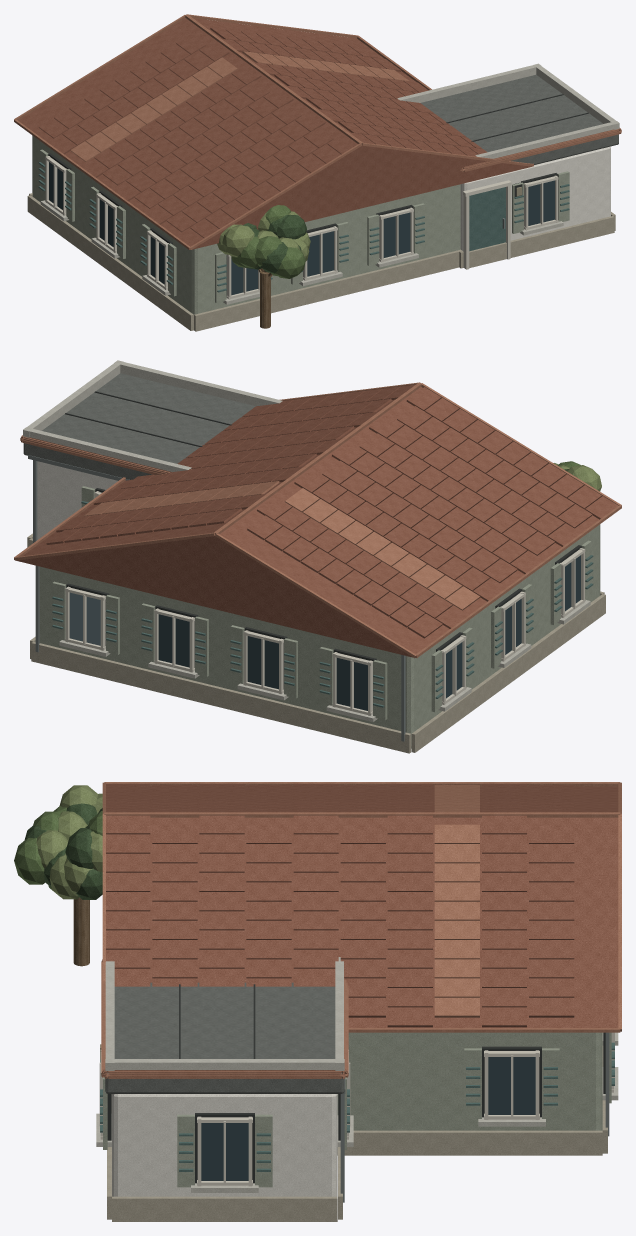
The model's file is RES_LUX_2x2_003.glb.
3 views of the same model, one above another, from view 1: azimuth 30°, elevation 25°; view 2: azimuth 150°, elevation 25°; view 3: azimuth 270°, elevation 25° (orthographic). The views are drawn at different scales.
Parts seen in each view (by area): view 1: RES_LUX_2x2_003_Visual; view 2: RES_LUX_2x2_003_Visual; view 3: RES_LUX_2x2_003_Visual.
Part boxes in pixels (left/top/right/bottom): RES_LUX_2x2_003_Visual: left=14, top=14, right=621, bottom=331; RES_LUX_2x2_003_Visual: left=14, top=360, right=621, bottom=753; RES_LUX_2x2_003_Visual: left=14, top=782, right=621, bottom=1221.
Size of what is drawn, in the model's own units: 3.77 by 1.26 by 3.1.
Materials: 18 (12 with a texture image).
